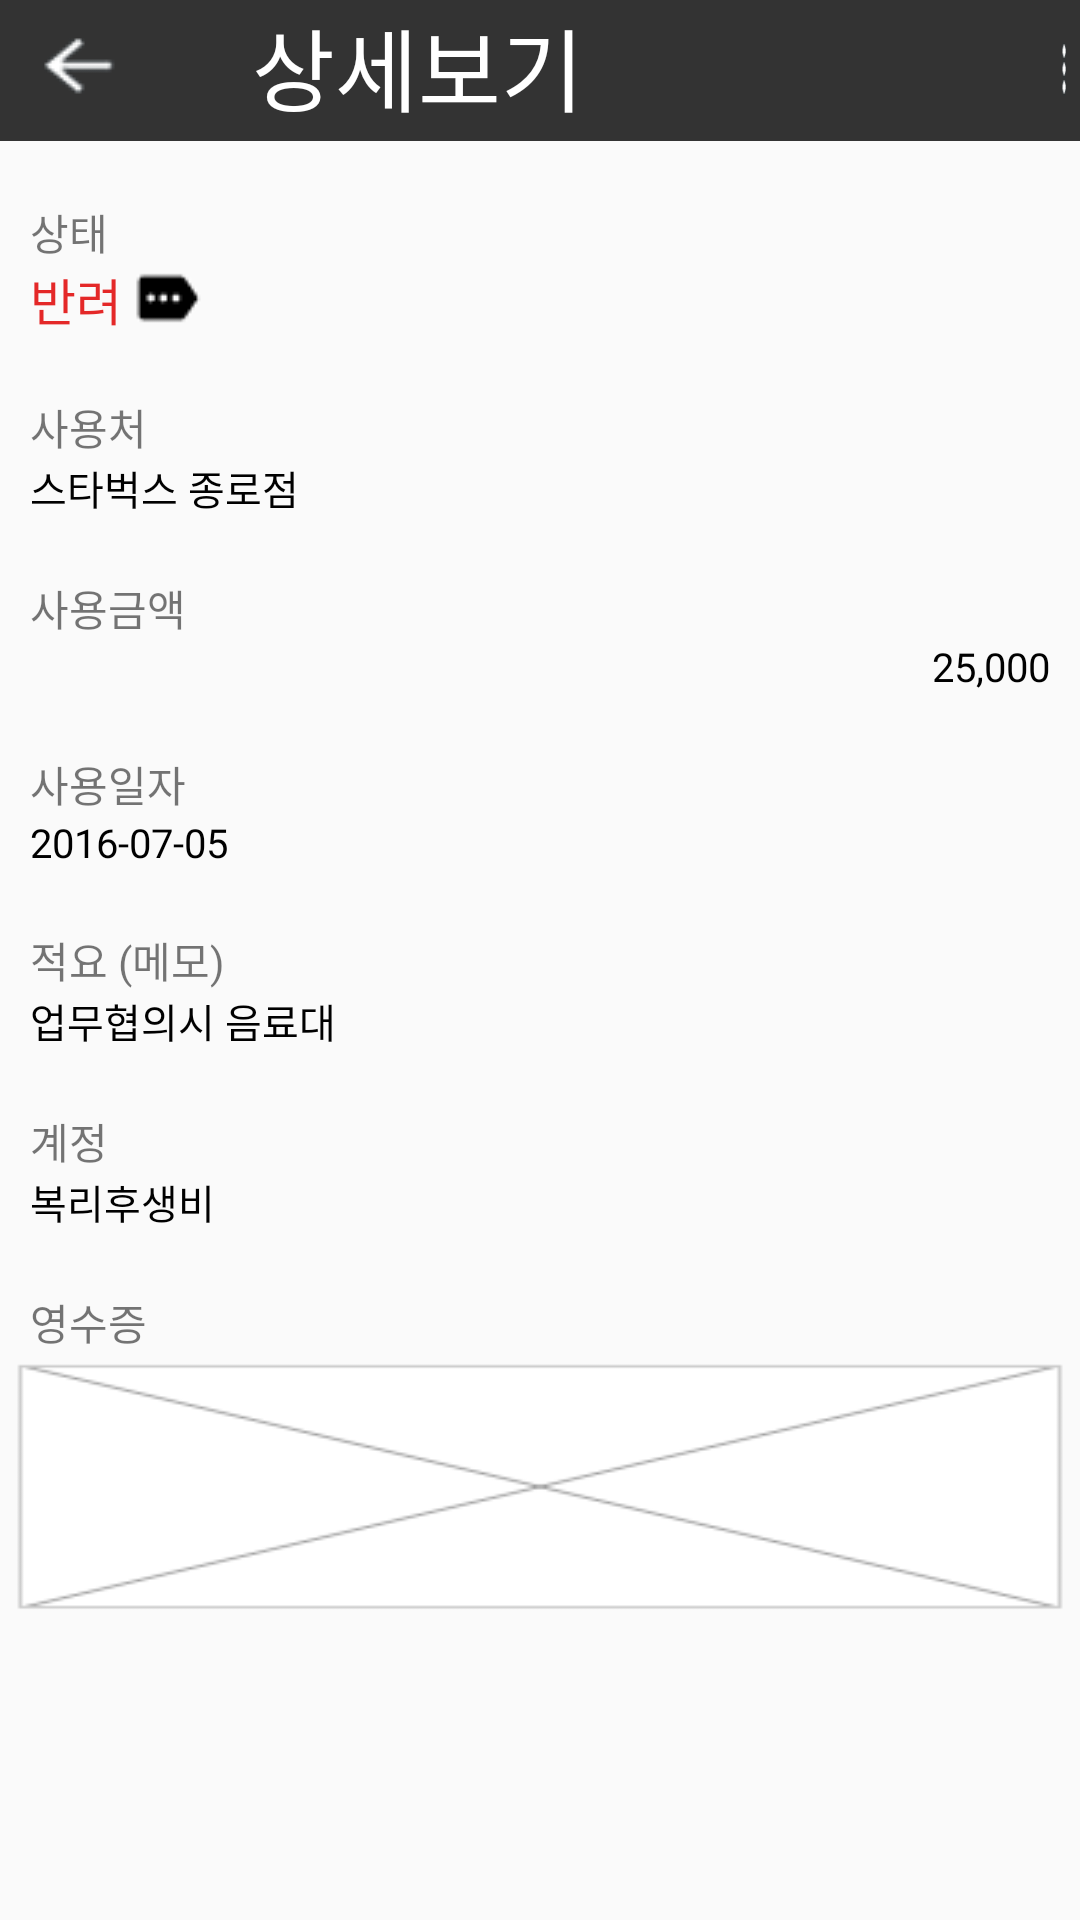

Locate icon controls on the screen. Image size 1080×1920, boxes as BBox(x1, y1, x2, y2).
back: BBox(44, 38, 113, 93)
